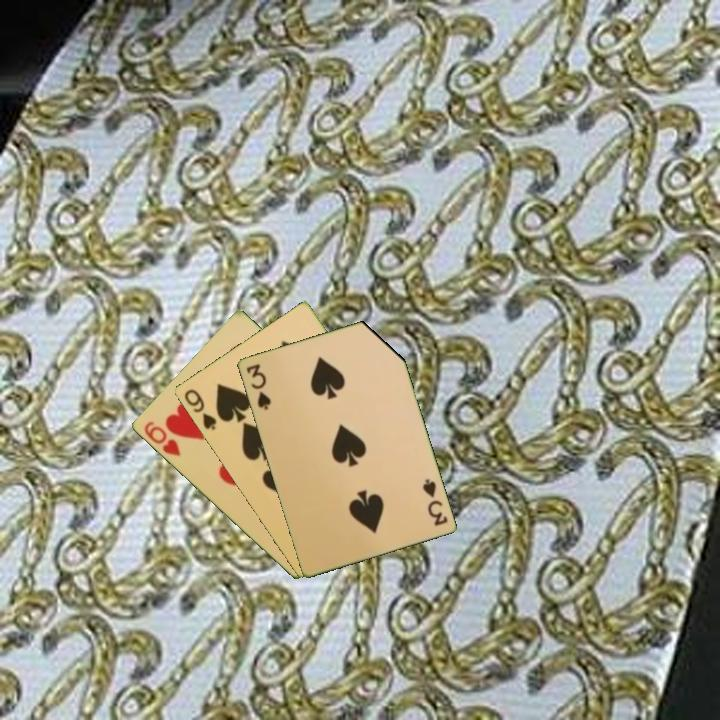3s: (419, 475, 450, 529), (242, 360, 273, 413)
6h: (140, 417, 183, 459)
9s: (180, 385, 219, 433)
